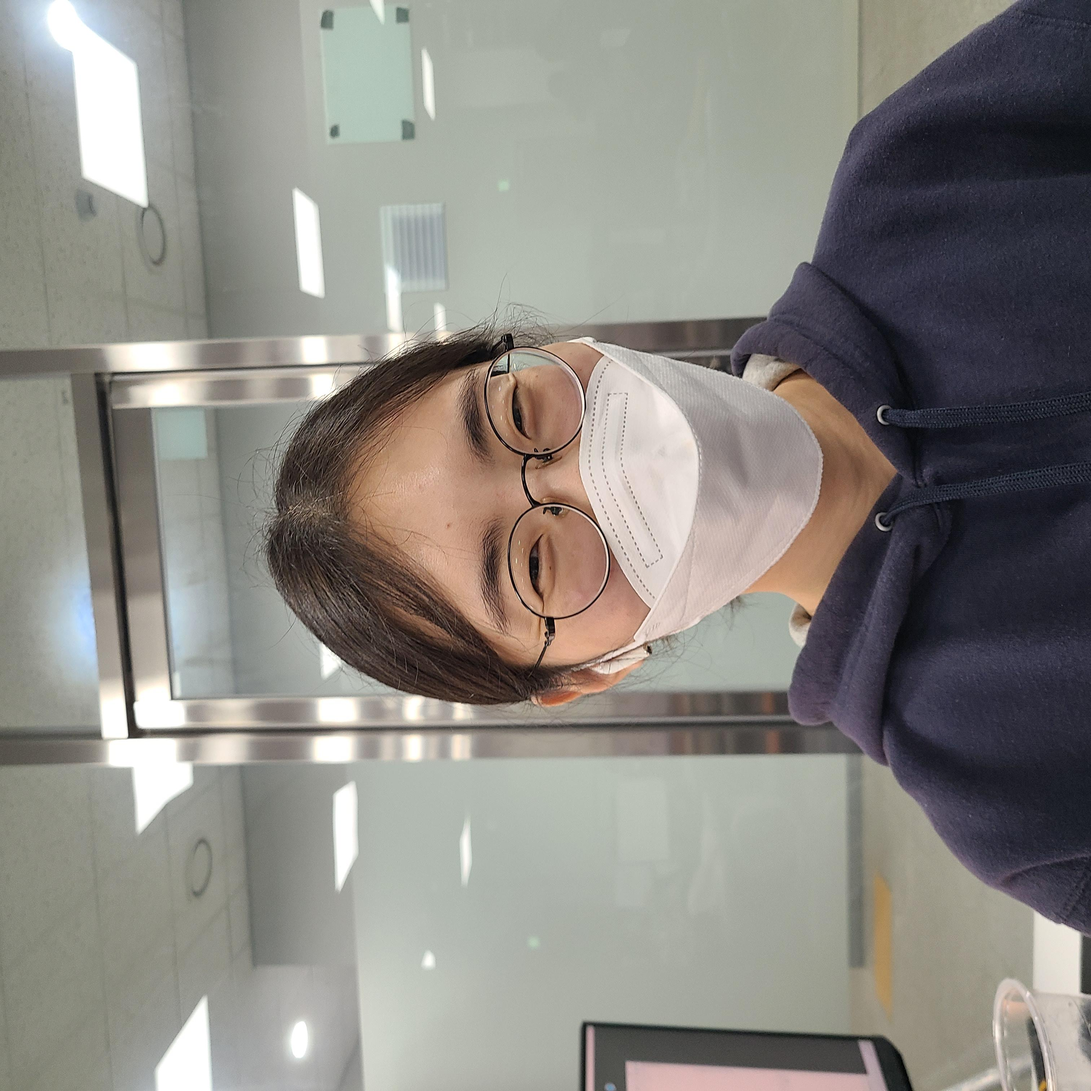earphone: (405, 579, 462, 664)
